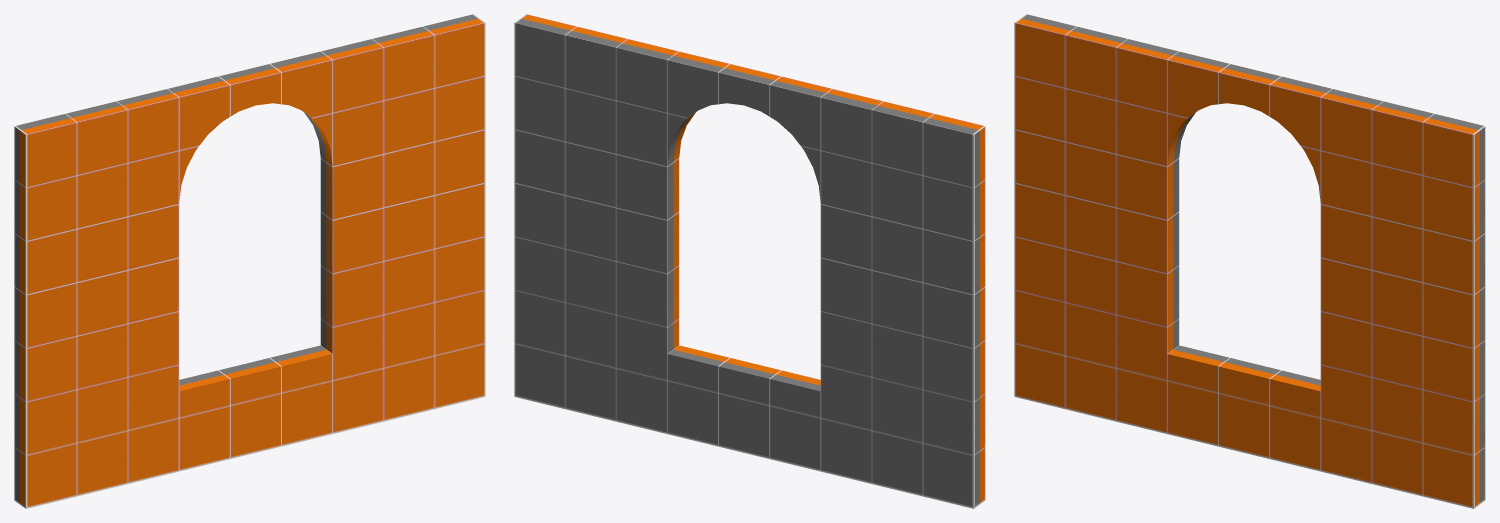
File: M01WallWindowTypeH_1.FBX
3 views of the same model, side by side, from view 1: azimuth 30°, elevation 25°; view 2: azimuth 150°, elevation 25°; view 3: azimuth 330°, elevation 25° (orthographic).
Visible parts, largest first — view 1: M01WallWindowTypeH_1; view 2: M01WallWindowTypeH_1; view 3: M01WallWindowTypeH_1.
Boxes of the visible parts, x1,y1,x2,y2 form: M01WallWindowTypeH_1: [14, 14, 485, 508]; M01WallWindowTypeH_1: [514, 14, 985, 508]; M01WallWindowTypeH_1: [1014, 14, 1485, 508].
Size of what is drawn, in the model's own units: 4.5 by 3.5 by 0.2.
